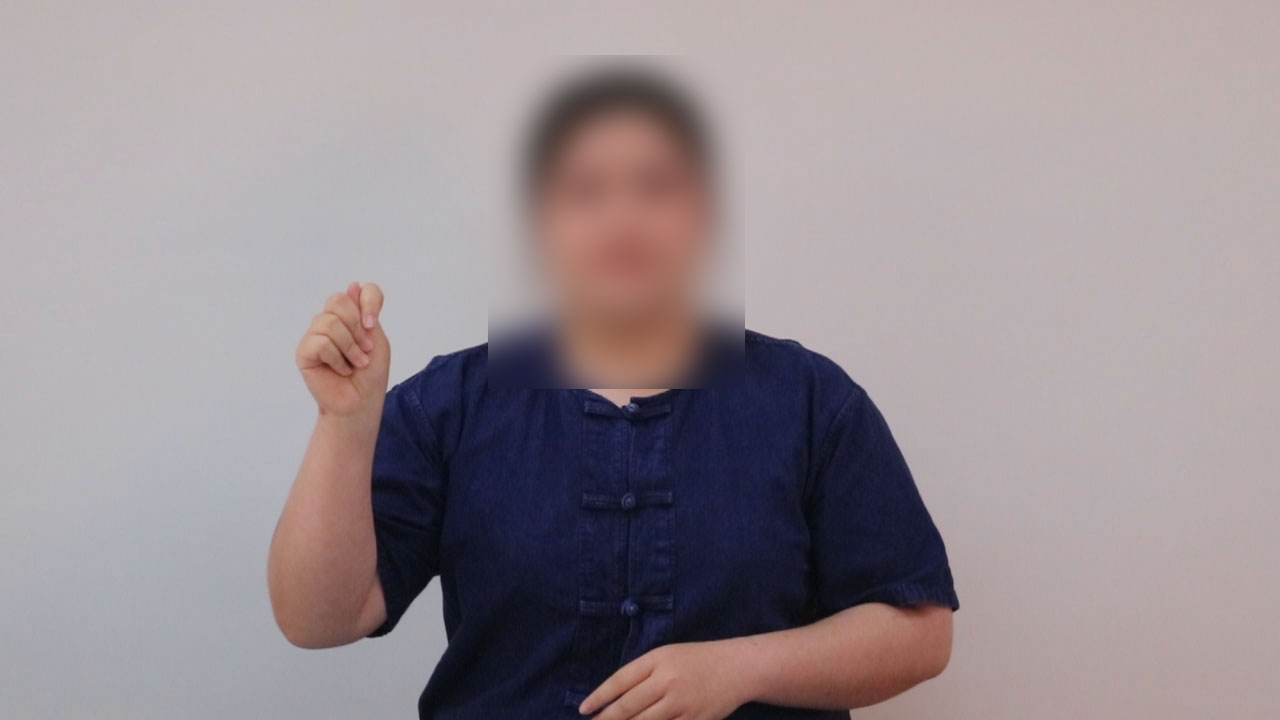tor: (274, 270, 431, 447)
